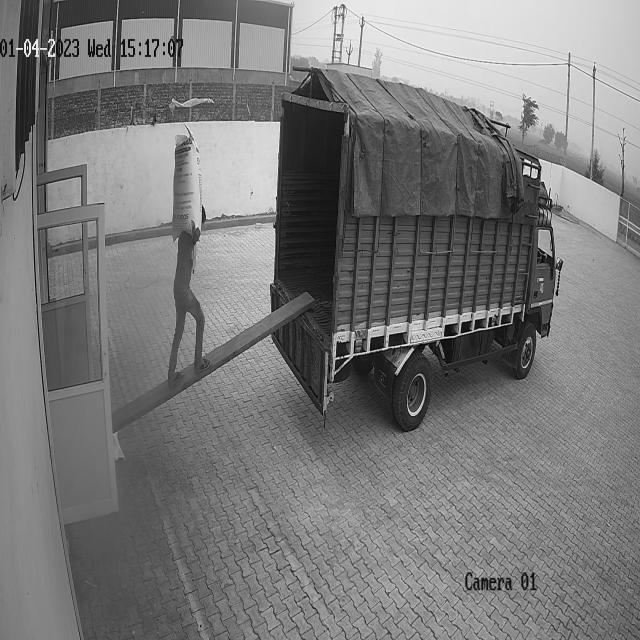sack: (171, 132, 203, 241)
